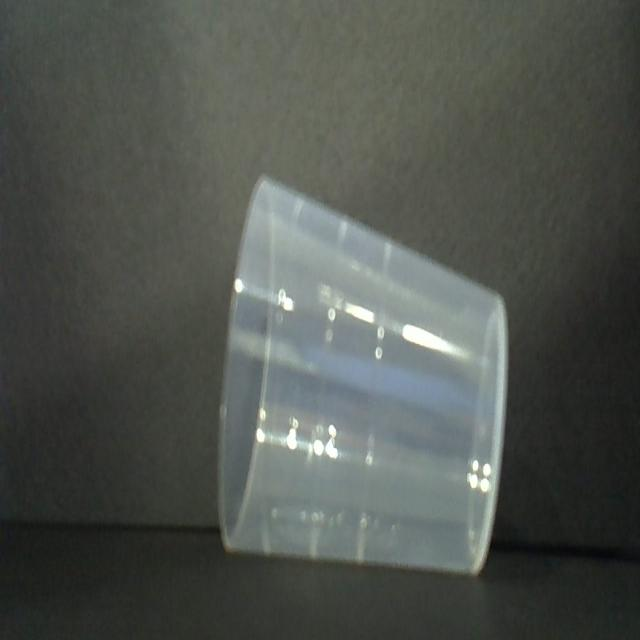cup: (215, 175, 512, 580)
